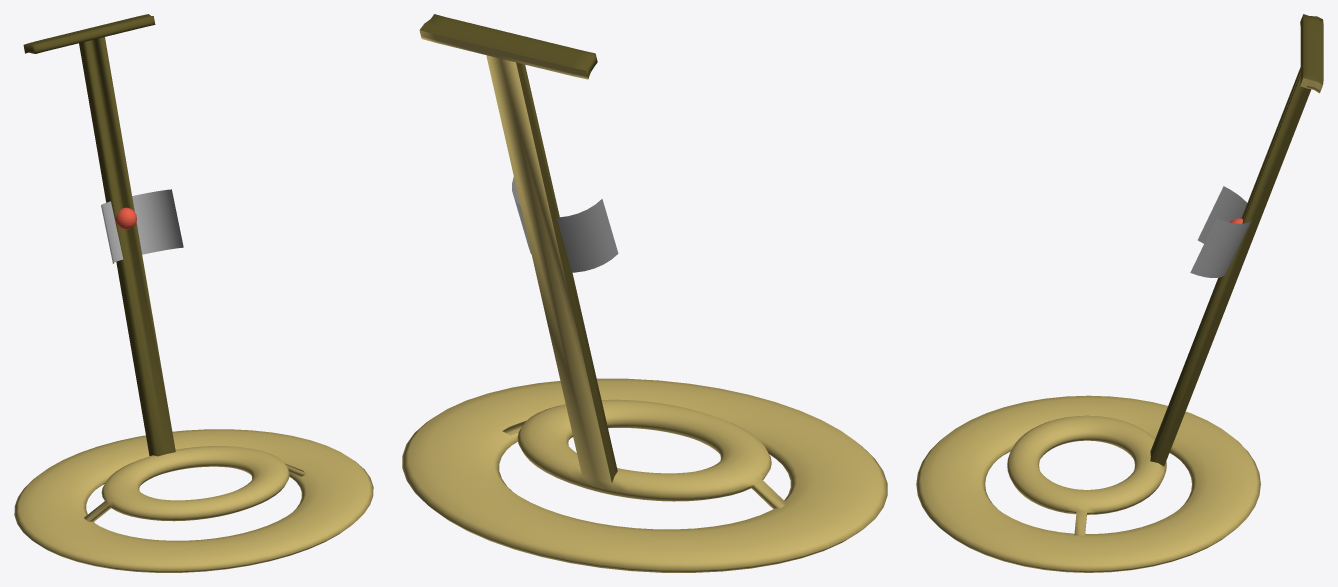
The model's file is metal detector.fbx.
3 renders of one model, left to right at view 1: azimuth 30°, elevation 25°; view 2: azimuth 150°, elevation 25°; view 3: azimuth 270°, elevation 25°, orthographic. The views are drawn at different scales.
Parts seen in each view (by area): view 1: base small, led; view 2: base small, led; view 3: base small, led.
Part boxes in pixels (x1=…): base small: x1=14, y1=14, x2=373, y2=572; led: x1=101, y1=189, x2=183, y2=263; base small: x1=402, y1=14, x2=887, y2=572; led: x1=512, y1=177, x2=618, y2=272; base small: x1=916, y1=14, x2=1323, y2=572; led: x1=1190, y1=186, x2=1251, y2=277.
Size of the model in its own units: 297 by 357 by 296.
